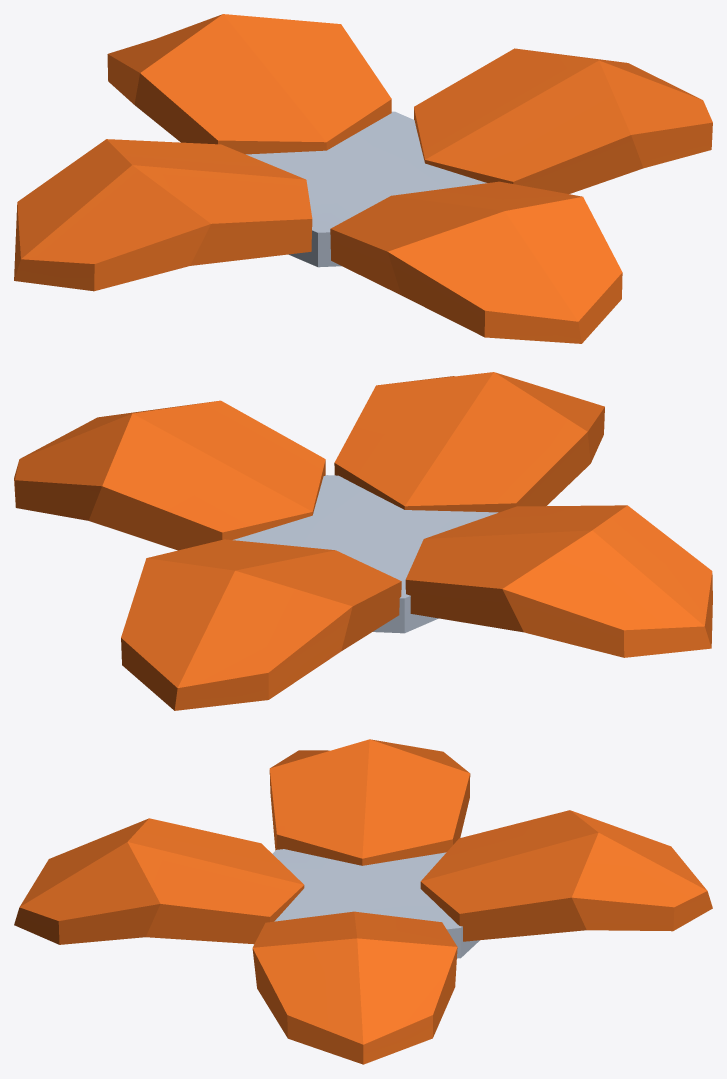
Rendered from Planta2.fbx.
The picture shows the model from 3 angles, top to bottom: view 1: azimuth 30°, elevation 25°; view 2: azimuth 150°, elevation 25°; view 3: azimuth 270°, elevation 25°; orthographic projection. The views are drawn at different scales.
Parts seen in each view (by area): view 1: Planta2; view 2: Planta2; view 3: Planta2.
Boxes of the visible parts, left/top/right/bottom form: Planta2: left=14, top=14, right=712, bottom=343; Planta2: left=14, top=372, right=712, bottom=710; Planta2: left=14, top=739, right=712, bottom=1064.
Bounding box in the file's own units: 54.84 × 54.72 × 7.64.
